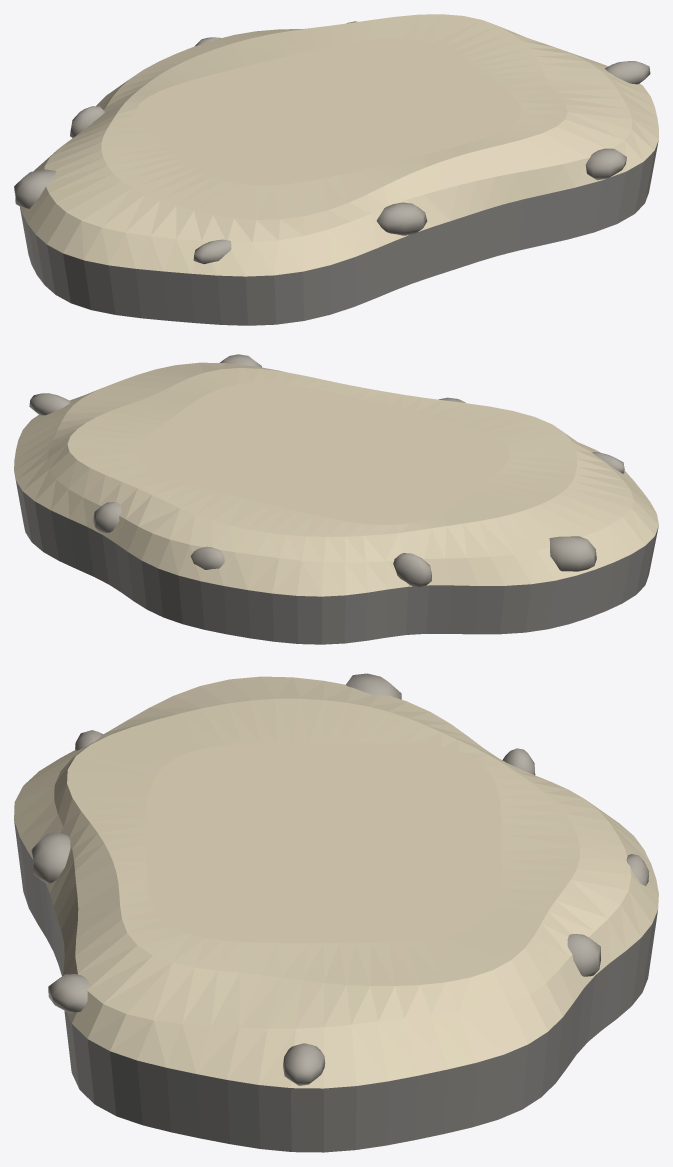
File: NAT_IsletBase.fbx
The picture shows the model from 3 angles, top to bottom: view 1: azimuth 30°, elevation 25°; view 2: azimuth 150°, elevation 25°; view 3: azimuth 270°, elevation 25°; orthographic projection. The views are drawn at different scales.
Parts seen in each view (by area): view 1: NAT_IsletBase_MAT_IslandSand, Bank_3, NAT_IsletBase_MAT_IslandCliff; view 2: NAT_IsletBase_MAT_IslandSand, Bank_3, NAT_IsletBase_MAT_IslandCliff; view 3: NAT_IsletBase_MAT_IslandSand, Bank_3, NAT_IsletBase_MAT_IslandCliff.
Part boxes in pixels (x1,y1,x2,y2): NAT_IsletBase_MAT_IslandSand: (20, 14, 658, 276); Bank_3: (19, 140, 658, 325); NAT_IsletBase_MAT_IslandCliff: (14, 21, 650, 264); NAT_IsletBase_MAT_IslandSand: (14, 362, 658, 596); Bank_3: (15, 476, 658, 644); NAT_IsletBase_MAT_IslandCliff: (29, 354, 624, 588); NAT_IsletBase_MAT_IslandSand: (14, 676, 658, 1088); Bank_3: (14, 820, 657, 1152); NAT_IsletBase_MAT_IslandCliff: (31, 673, 649, 1085).
Size of the model in its own units: 3175 by 455 by 2177.
